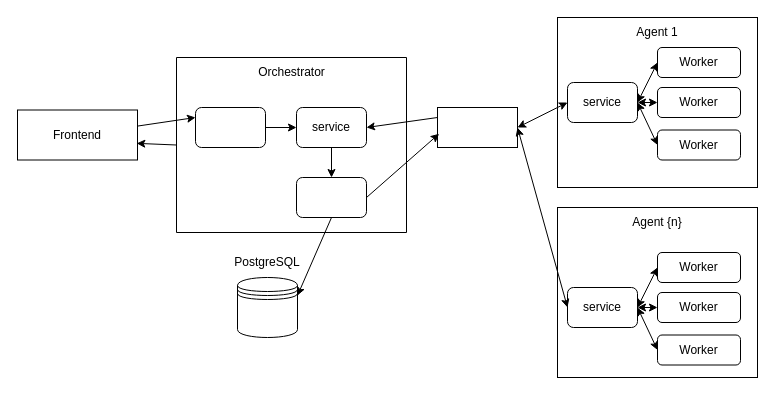
This 775x395 diagram has some shape labels left out. Here are the shapes that lost their labels. From the top down, the centre of each, then its label:
At [230,127]: "handler".
At [477,127]: "RabbitMQ".
At [331,197]: "repository".
